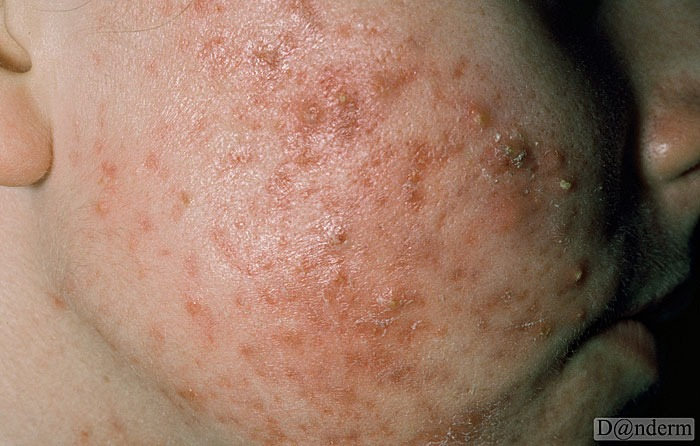Acne: (482, 124, 542, 180), (362, 276, 411, 336), (550, 244, 595, 299), (455, 86, 496, 135), (550, 167, 580, 207)
